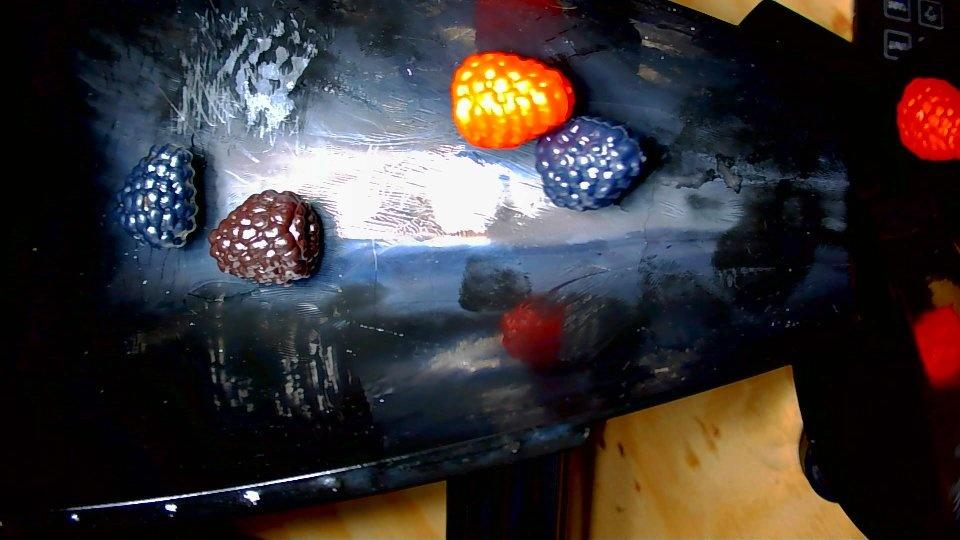berry: (450, 51, 575, 147), (209, 190, 321, 284), (536, 117, 645, 210), (116, 146, 198, 247), (896, 78, 959, 160)
